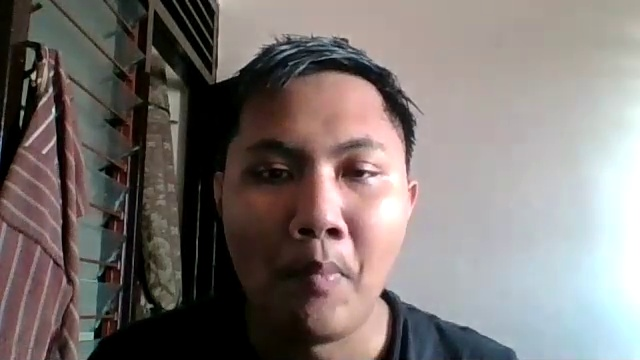Not Distracted: (205, 97, 421, 337)
